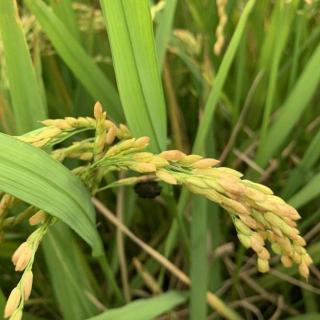Gosong-Palsu: (132, 176, 166, 200)
